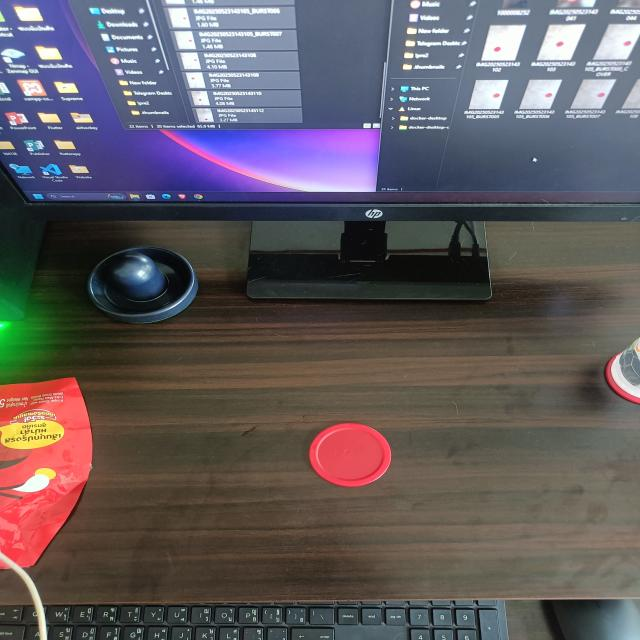chip: (307, 421, 394, 487)
